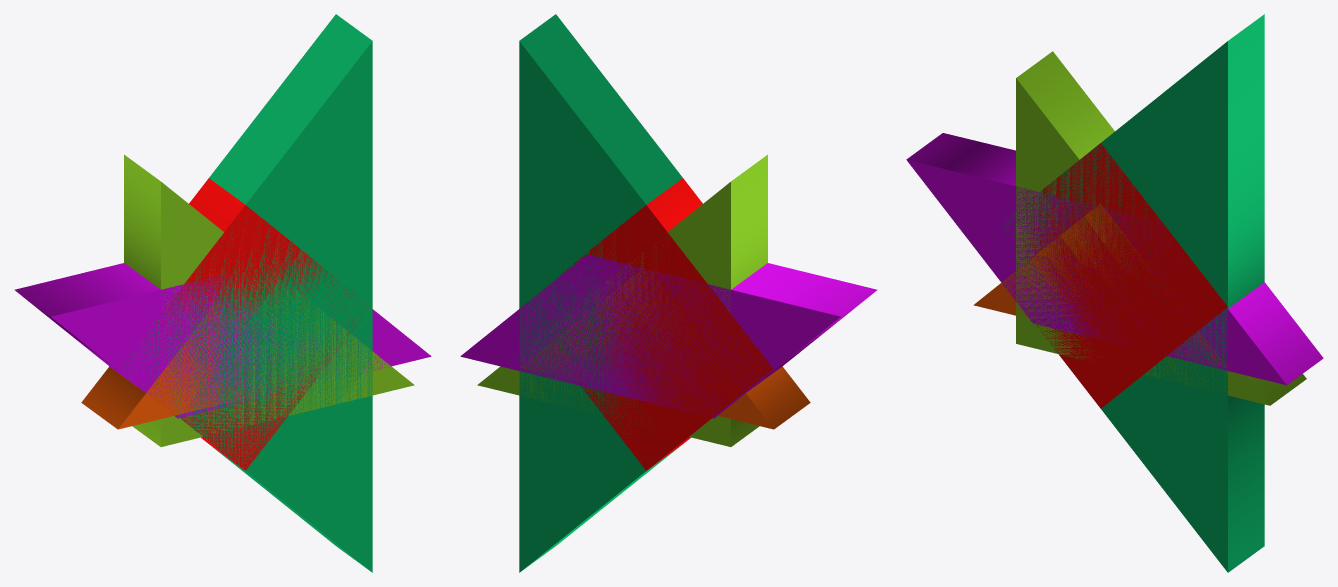
The model's file is Pieces_1-5.fbx.
The picture shows the model from 3 angles, left to right: view 1: azimuth 30°, elevation 25°; view 2: azimuth 150°, elevation 25°; view 3: azimuth 330°, elevation 25°; orthographic projection.
Visible parts, largest first — view 1: Piece_01, Piece_05, Piece_02, Piece_04, Piece_03; view 2: Piece_01, Piece_05, Piece_04, Piece_02, Piece_03; view 3: Piece_01, Piece_04, Piece_05, Piece_02, Piece_03.
Part boxes in pixels (x1,y1,x2,y2): Piece_01: (128,14,372,572); Piece_05: (14,263,431,418); Piece_02: (124,154,414,446); Piece_04: (141,178,361,470); Piece_03: (81,292,365,429); Piece_01: (519,14,682,572); Piece_05: (460,254,877,418); Piece_04: (527,178,773,470); Piece_02: (477,154,767,446); Piece_03: (520,268,810,429); Piece_01: (997,14,1264,572); Piece_04: (1009,143,1227,408); Piece_05: (906,133,1323,385); Piece_02: (1016,51,1306,405); Piece_03: (973,203,1226,366).
Size of the model in its own units: 14.98 by 20 by 2.5.
